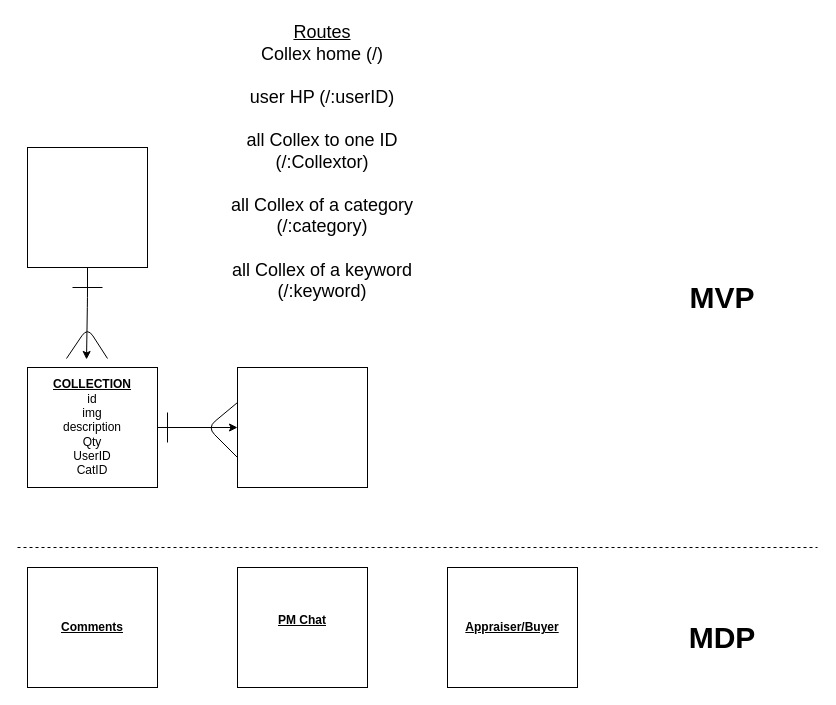
Image size: 836x705. Some labels were removed from this diagram. Each missing label, with the centre of its shape:
"CATEGORIES id name" belongs at (x=302, y=427).
"LOGIN ID PW name profile pic" belongs at (x=87, y=207).
